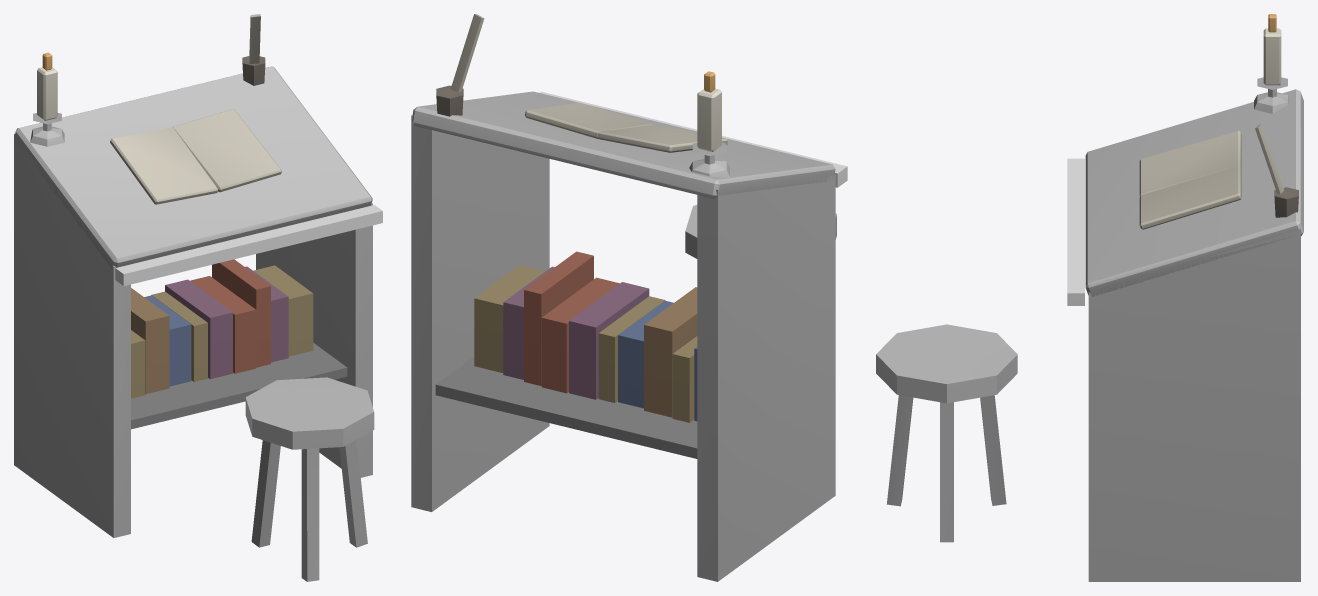
The model's file is writing_desk_2.glb.
The picture shows the model from 3 angles, left to right: view 1: azimuth 30°, elevation 25°; view 2: azimuth 150°, elevation 25°; view 3: azimuth 270°, elevation 25°; orthographic projection. The views are drawn at different scales.
Parts seen in each view (by area): view 1: book; view 2: book; view 3: book.
Boxes of the visible parts, <box> form: book: <box>14,14,382,581</box>; book: <box>411,14,847,581</box>; book: <box>876,14,1303,581</box>.
Bounding box in the file's own units: 0.9 × 1.38 × 1.21.
